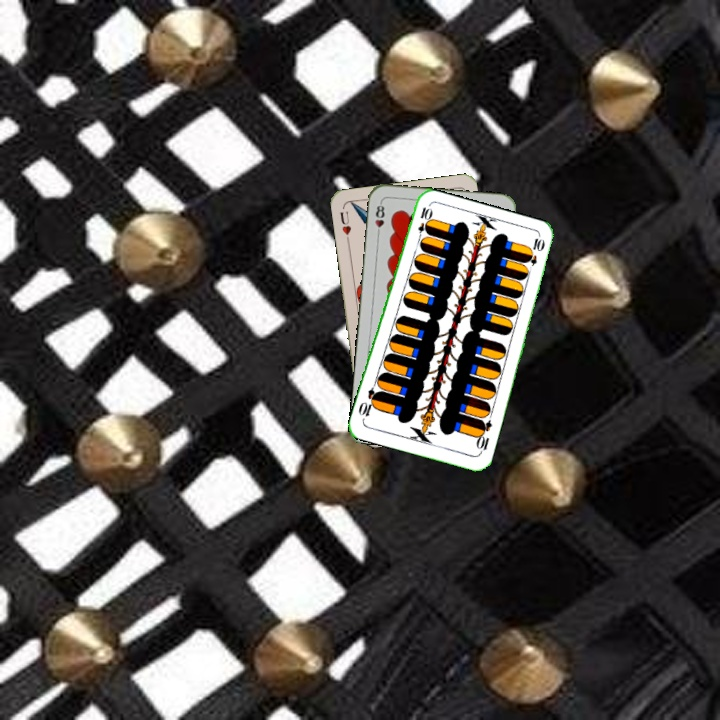E10: (472, 416, 495, 456), (414, 203, 433, 243)
H8: (371, 198, 387, 239)
HU: (336, 207, 354, 245)
